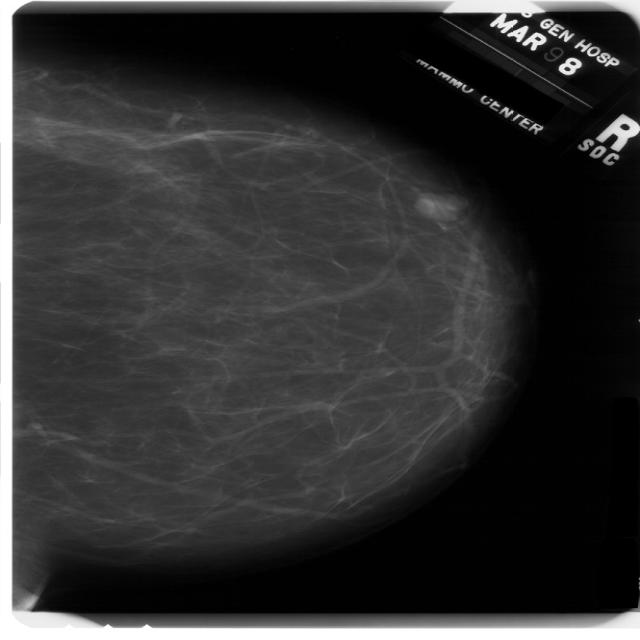tumour: (411, 190, 469, 222)
